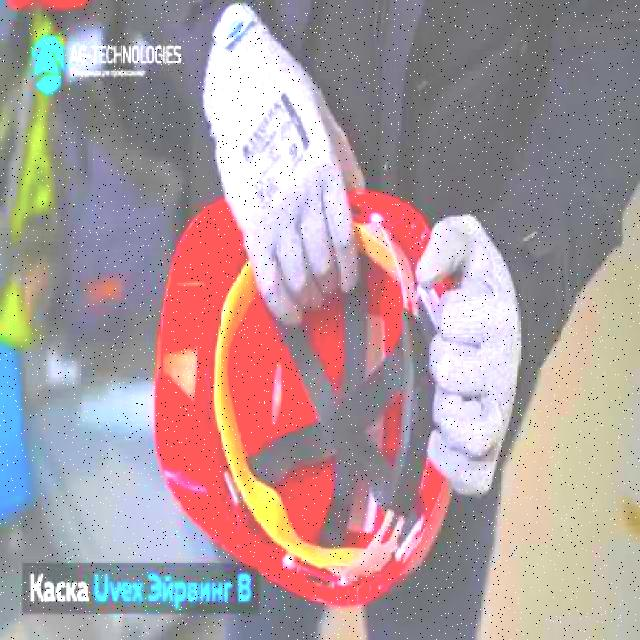Gloves: (202, 4, 368, 324), (415, 211, 523, 498)
Helmet: (152, 190, 465, 612)
